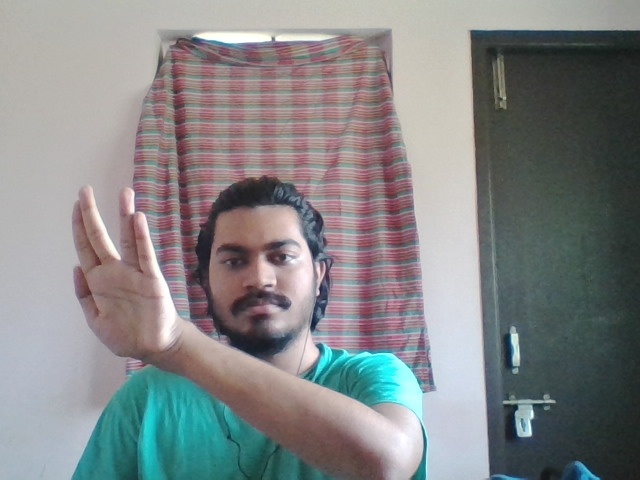LiveLong: (73, 186, 179, 360)
